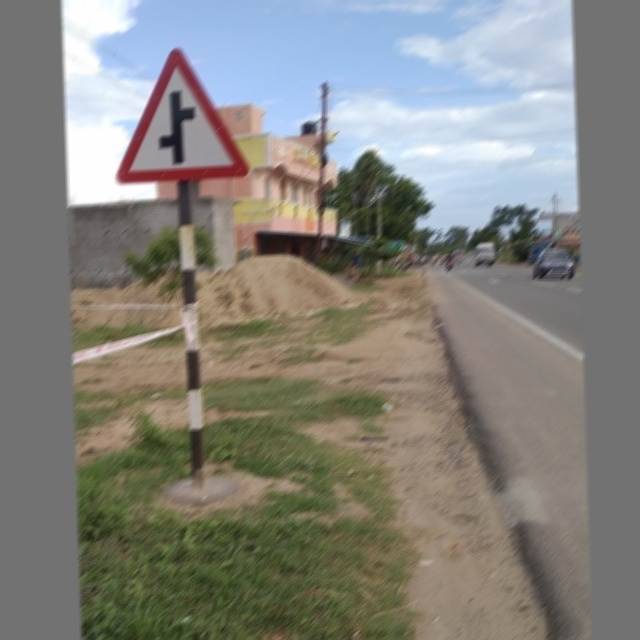Staggered_Intersection: (114, 34, 252, 192)
